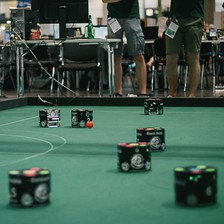ball: (83, 118, 92, 127)
robot: (4, 164, 52, 210), (171, 160, 219, 205), (113, 139, 154, 175), (134, 123, 166, 151), (36, 105, 63, 129), (68, 106, 96, 129), (141, 94, 165, 117)
